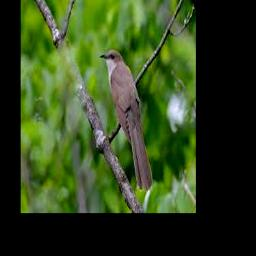Cuckoo: (100, 50, 153, 191)
